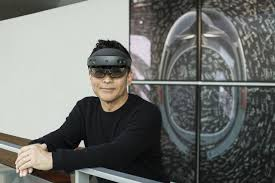hololens: (87, 50, 131, 82)
